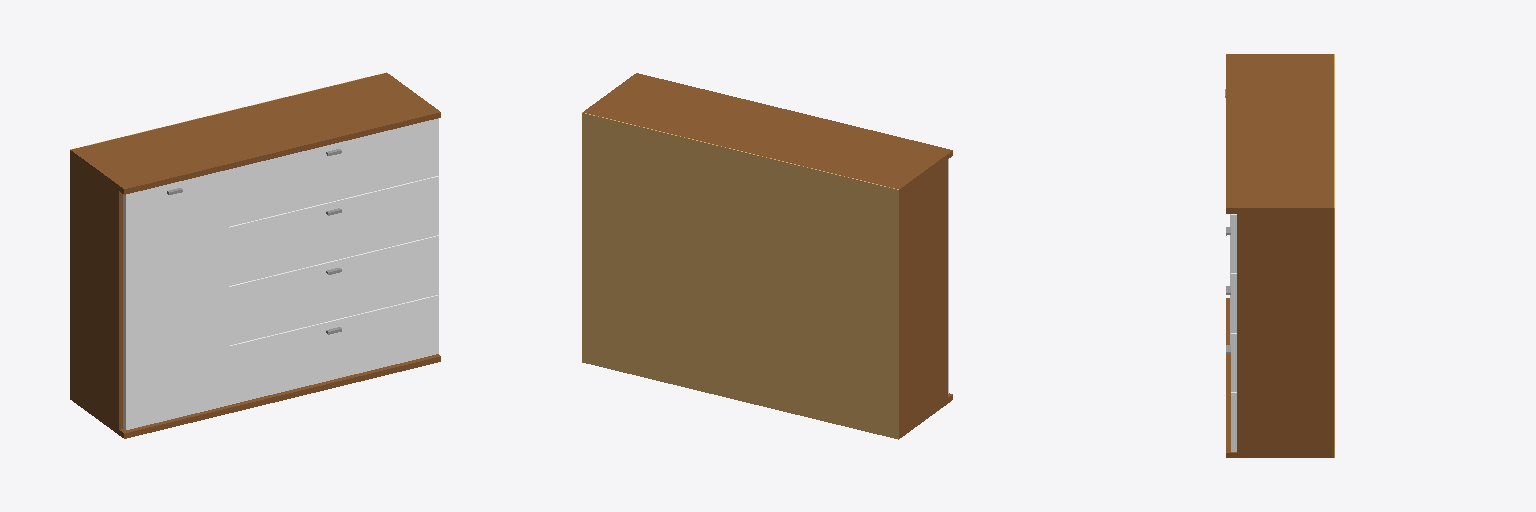
The model's file is furniture_chifonier_closed.obj.
The picture shows the model from 3 angles: view 1: azimuth 30°, elevation 25°; view 2: azimuth 150°, elevation 25°; view 3: azimuth 270°, elevation 25°; orthographic projection.
Visible parts, largest first — view 1: Mesh80 Puerta_movil1 Cajon_partes_moviles1 Chifonnier1 Model, Mesh102 Tabla2 Cuerpo_estatico1 Chifonnier1 Model, Mesh100 pared2 Cuerpo_estatico1 Chifonnier1 Model, Mesh38 Tapa_cajon2 Cajon2 Partes_moviles1 Cajon_partes_moviles1 , Mesh76 Tapa_cajon4 Cajon4 Partes_moviles1 Cajon_partes_moviles1 , Mesh57 Tapa_cajon3 Cajon3 Partes_moviles1 Cajon_partes_moviles1 , Mesh19 Tapa_cajon1 Cajon1 Partes_moviles1 Cajon_partes_moviles1 , Mesh99 Tabla1 Cuerpo_estatico1 Chifonnier1 Model; view 2: Mesh101 contrachapado1 Cuerpo_estatico1 Chifonnier1 Model, Mesh102 Tabla2 Cuerpo_estatico1 Chifonnier1 Model, Mesh100 pared2 Cuerpo_estatico1 Chifonnier1 Model; view 3: Mesh103 pared3 Cuerpo_estatico1 Chifonnier1 Model, Mesh102 Tabla2 Cuerpo_estatico1 Chifonnier1 Model, Mesh99 Tabla1 Cuerpo_estatico1 Chifonnier1 Model.
Part boxes in pixels (x1,y1,x2,y2): Mesh80 Puerta_movil1 Cajon_partes_moviles1 Chifonnier1 Model: (123, 170, 228, 429); Mesh102 Tabla2 Cuerpo_estatico1 Chifonnier1 Model: (70, 73, 440, 194); Mesh100 pared2 Cuerpo_estatico1 Chifonnier1 Model: (70, 155, 122, 429); Mesh38 Tapa_cajon2 Cajon2 Partes_moviles1 Cajon_partes_moviles1 : (229, 176, 438, 285); Mesh76 Tapa_cajon4 Cajon4 Partes_moviles1 Cajon_partes_moviles1 : (229, 235, 438, 345); Mesh57 Tapa_cajon3 Cajon3 Partes_moviles1 Cajon_partes_moviles1 : (229, 295, 438, 404); Mesh19 Tapa_cajon1 Cajon1 Partes_moviles1 Cajon_partes_moviles1 : (229, 118, 438, 226); Mesh99 Tabla1 Cuerpo_estatico1 Chifonnier1 Model: (70, 354, 440, 438); Mesh101 contrachapado1 Cuerpo_estatico1 Chifonnier1 Model: (582, 112, 898, 439); Mesh102 Tabla2 Cuerpo_estatico1 Chifonnier1 Model: (583, 73, 952, 194); Mesh100 pared2 Cuerpo_estatico1 Chifonnier1 Model: (899, 160, 947, 433); Mesh103 pared3 Cuerpo_estatico1 Chifonnier1 Model: (1237, 214, 1333, 452); Mesh102 Tabla2 Cuerpo_estatico1 Chifonnier1 Model: (1226, 54, 1333, 213); Mesh99 Tabla1 Cuerpo_estatico1 Chifonnier1 Model: (1226, 298, 1333, 457).
Bounding box in the file's own units: 1.2 × 0.904 × 0.3622.